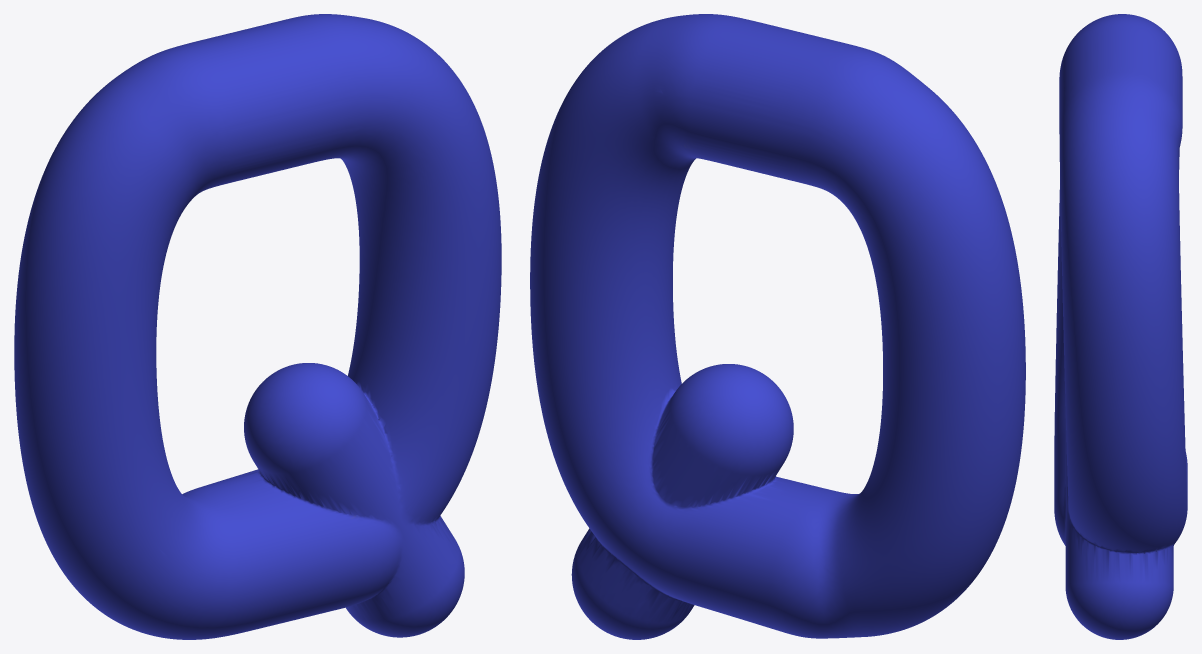
The model's file is letter-q.glb.
3 views of the same model, side by side, from view 1: azimuth 30°, elevation 25°; view 2: azimuth 150°, elevation 25°; view 3: azimuth 270°, elevation 25° (orthographic). The views are drawn at different scales.
Parts seen in each view (by area): view 1: node_id3; view 2: node_id3; view 3: node_id3.
Part boxes in pixels (x1=…): node_id3: x1=14, y1=14, x2=501, y2=639; node_id3: x1=530, y1=14, x2=1025, y2=639; node_id3: x1=1054, y1=14, x2=1187, y2=639.
Size of the model in its own units: 0.4008 by 0.512 by 0.1175.
Materials: 1 (1 with a texture image).
